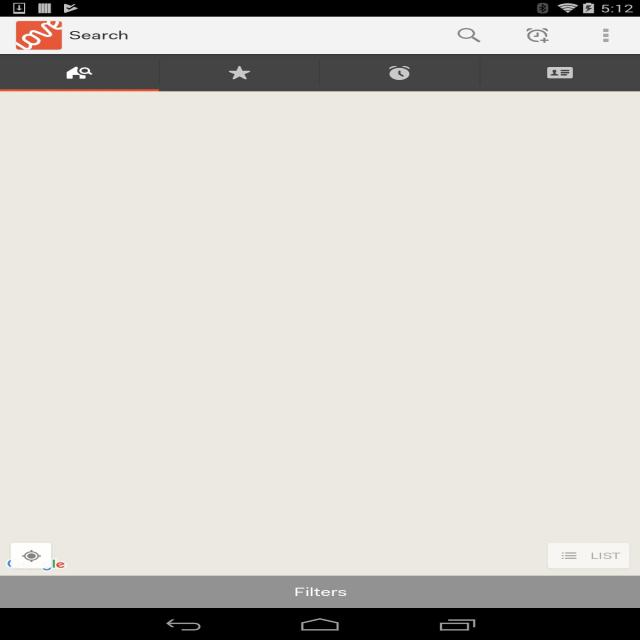button: (1, 91, 639, 575), (2, 575, 640, 608), (480, 55, 638, 91), (321, 55, 477, 91), (2, 56, 159, 91), (164, 56, 318, 91), (550, 544, 630, 571), (11, 543, 51, 570), (453, 23, 486, 49), (522, 25, 551, 47), (595, 24, 616, 48)
heading: (68, 27, 132, 43)
image: (13, 19, 63, 50)
